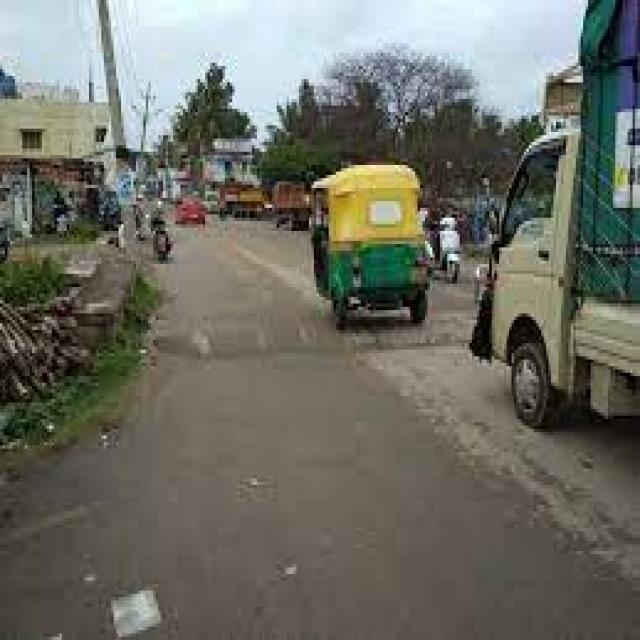speedbreaker: (166, 308, 512, 361)
